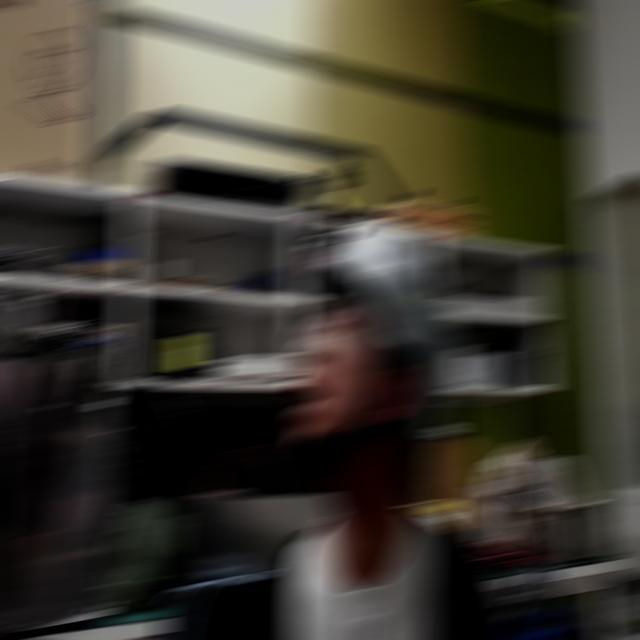With Helmet: (273, 140, 516, 586)
